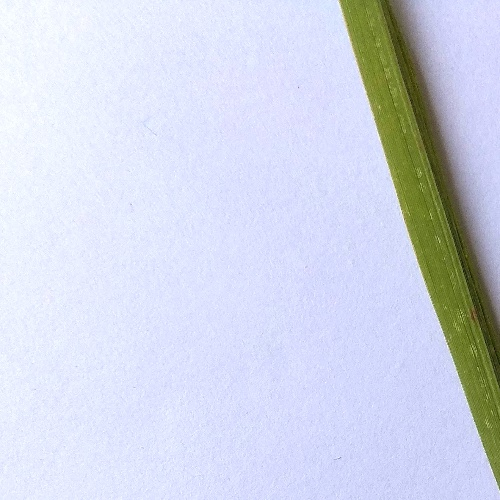Busuk Leher: (462, 303, 485, 328)
